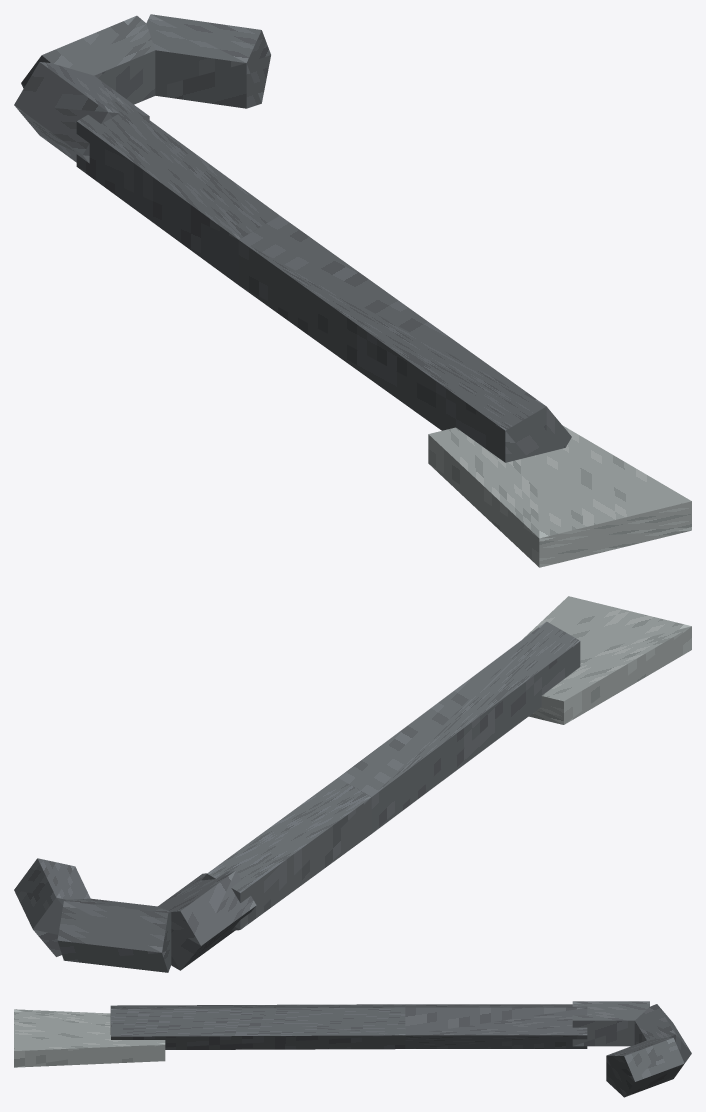
Rendered from crowbar.glb.
3 views of the same model, one above another, from view 1: azimuth 30°, elevation 25°; view 2: azimuth 150°, elevation 25°; view 3: azimuth 270°, elevation 25° (orthographic). The views are drawn at different scales.
Parts seen in each view (by area): view 1: block_steel shaft 1, block_flattened pry tip, block_steel shaft 0, block_curved end 2, block_curved end 0, block_curved end 1; view 2: block_steel shaft 1, block_flattened pry tip, block_steel shaft 0, block_curved end 1, block_curved end 0, block_curved end 2; view 3: block_steel shaft 1, block_steel shaft 0, block_flattened pry tip, block_curved end 2, block_curved end 0, block_curved end 1.
Part boxes in pixels (left/top/right/bottom): block_steel shaft 1: left=238, top=215, right=571, bottom=462; block_flattened pry tip: left=428, top=425, right=691, bottom=567; block_steel shaft 0: left=76, top=97, right=279, bottom=284; block_curved end 2: left=146, top=14, right=270, bottom=108; block_curved end 0: left=14, top=62, right=149, bottom=163; block_curved end 1: left=21, top=15, right=155, bottom=104; block_steel shaft 1: left=338, top=621, right=580, bottom=833; block_flattened pry tip: left=522, top=596, right=691, bottom=724; block_steel shaft 0: left=202, top=778, right=371, bottom=930; block_curved end 1: left=57, top=898, right=171, bottom=972; block_curved end 0: left=158, top=870, right=256, bottom=970; block_curved end 2: left=14, top=858, right=90, bottom=956; block_steel shaft 1: left=110, top=1004, right=405, bottom=1049; block_steel shaft 0: left=405, top=1004, right=587, bottom=1048; block_flattened pry tip: left=14, top=1009, right=165, bottom=1067; block_curved end 2: left=606, top=1037, right=684, bottom=1097; block_curved end 0: left=572, top=1001, right=649, bottom=1046; block_curved end 1: left=634, top=1004, right=691, bottom=1063.
Bounding box in the file's own units: 0.1252 × 0.0318 × 0.46.
1 material, 1 textured.
